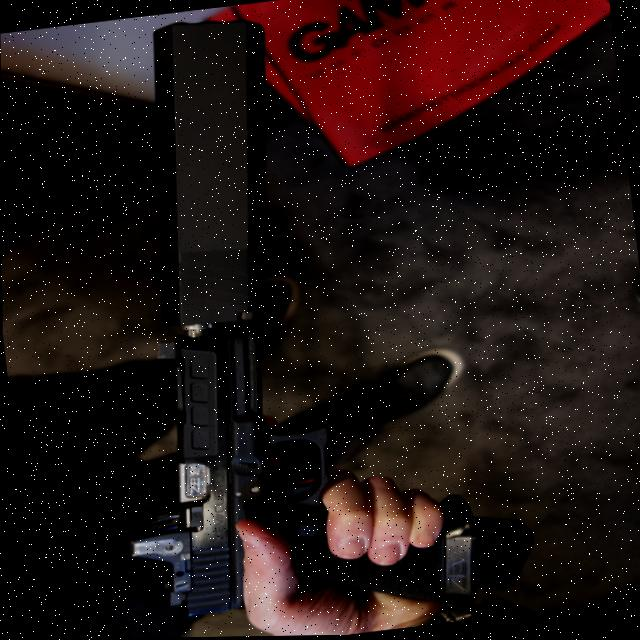pistol: (63, 0, 544, 639)
